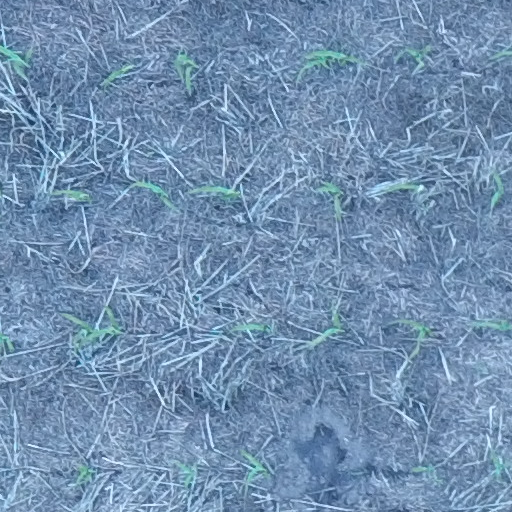planta: (308, 305, 344, 346), (312, 179, 344, 223), (130, 180, 175, 210), (64, 314, 99, 352), (85, 305, 123, 340), (171, 52, 198, 95), (396, 318, 431, 351), (239, 449, 270, 485), (303, 48, 364, 66), (189, 182, 241, 203), (295, 48, 331, 77), (102, 63, 132, 88), (396, 45, 430, 67), (173, 458, 196, 489), (49, 188, 92, 203), (489, 168, 504, 208), (487, 450, 506, 480), (227, 323, 273, 335), (382, 181, 424, 194), (74, 463, 94, 486), (411, 464, 433, 473)
